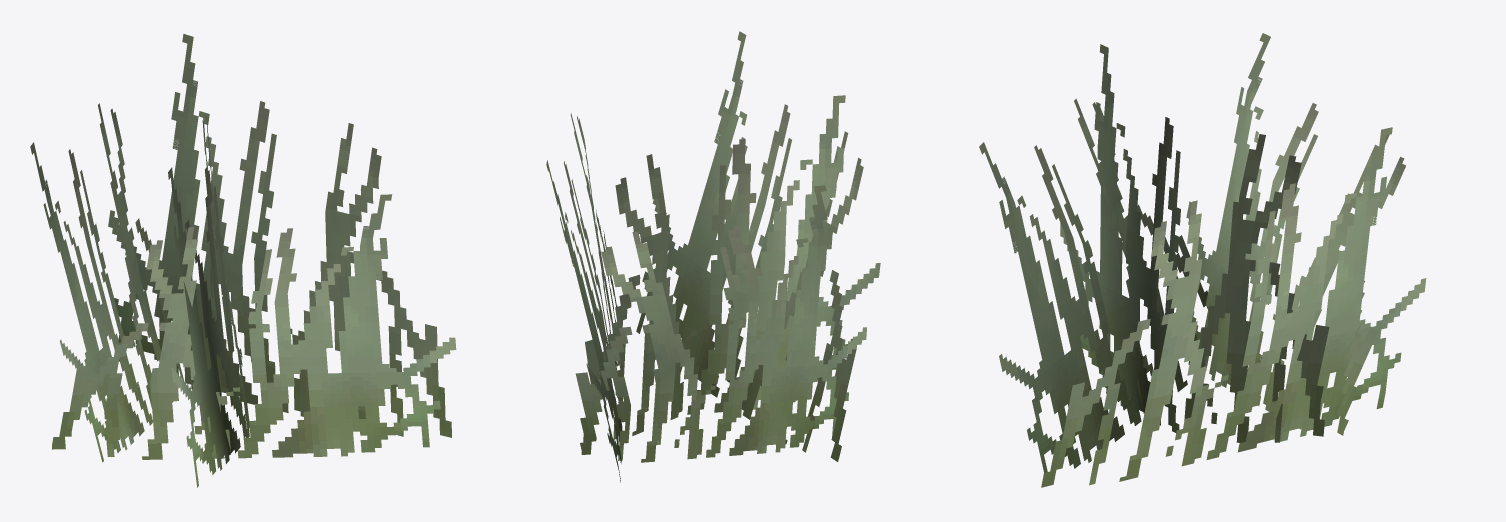
3 views of the same model, side by side, from view 1: azimuth 30°, elevation 25°; view 2: azimuth 150°, elevation 25°; view 3: azimuth 270°, elevation 25° (orthographic). The views are drawn at different scales.
Parts seen in each view (by area): view 1: grass_grass_high_b-0-01 - Default; view 2: grass_grass_high_b-0-01 - Default; view 3: grass_grass_high_b-0-01 - Default.
Part boxes in pixels (x1=…): grass_grass_high_b-0-01 - Default: x1=30, y1=34, x2=456, y2=487; grass_grass_high_b-0-01 - Default: x1=546, y1=31, x2=880, y2=482; grass_grass_high_b-0-01 - Default: x1=979, y1=33, x2=1426, y2=487.
Size of the model in its own units: 2.35 by 1.95 by 2.79.
1 material, 1 textured.
